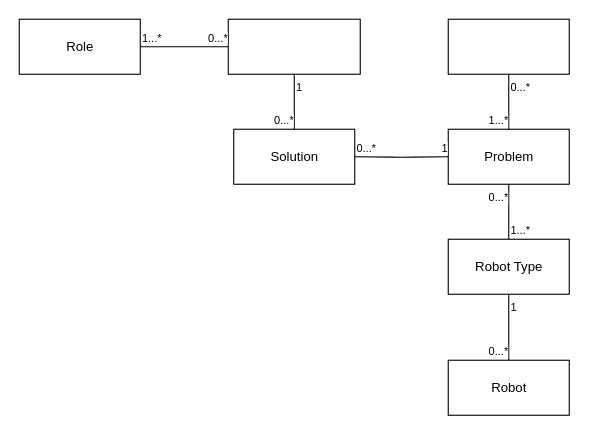
Some shapes in this 589 by 435 pixel diagram are drawn without their labels. Here are the shapes that lost their labels. From the top down, the box of each, then its label:
(227, 18, 360, 74): User
(447, 18, 569, 74): Tournament
